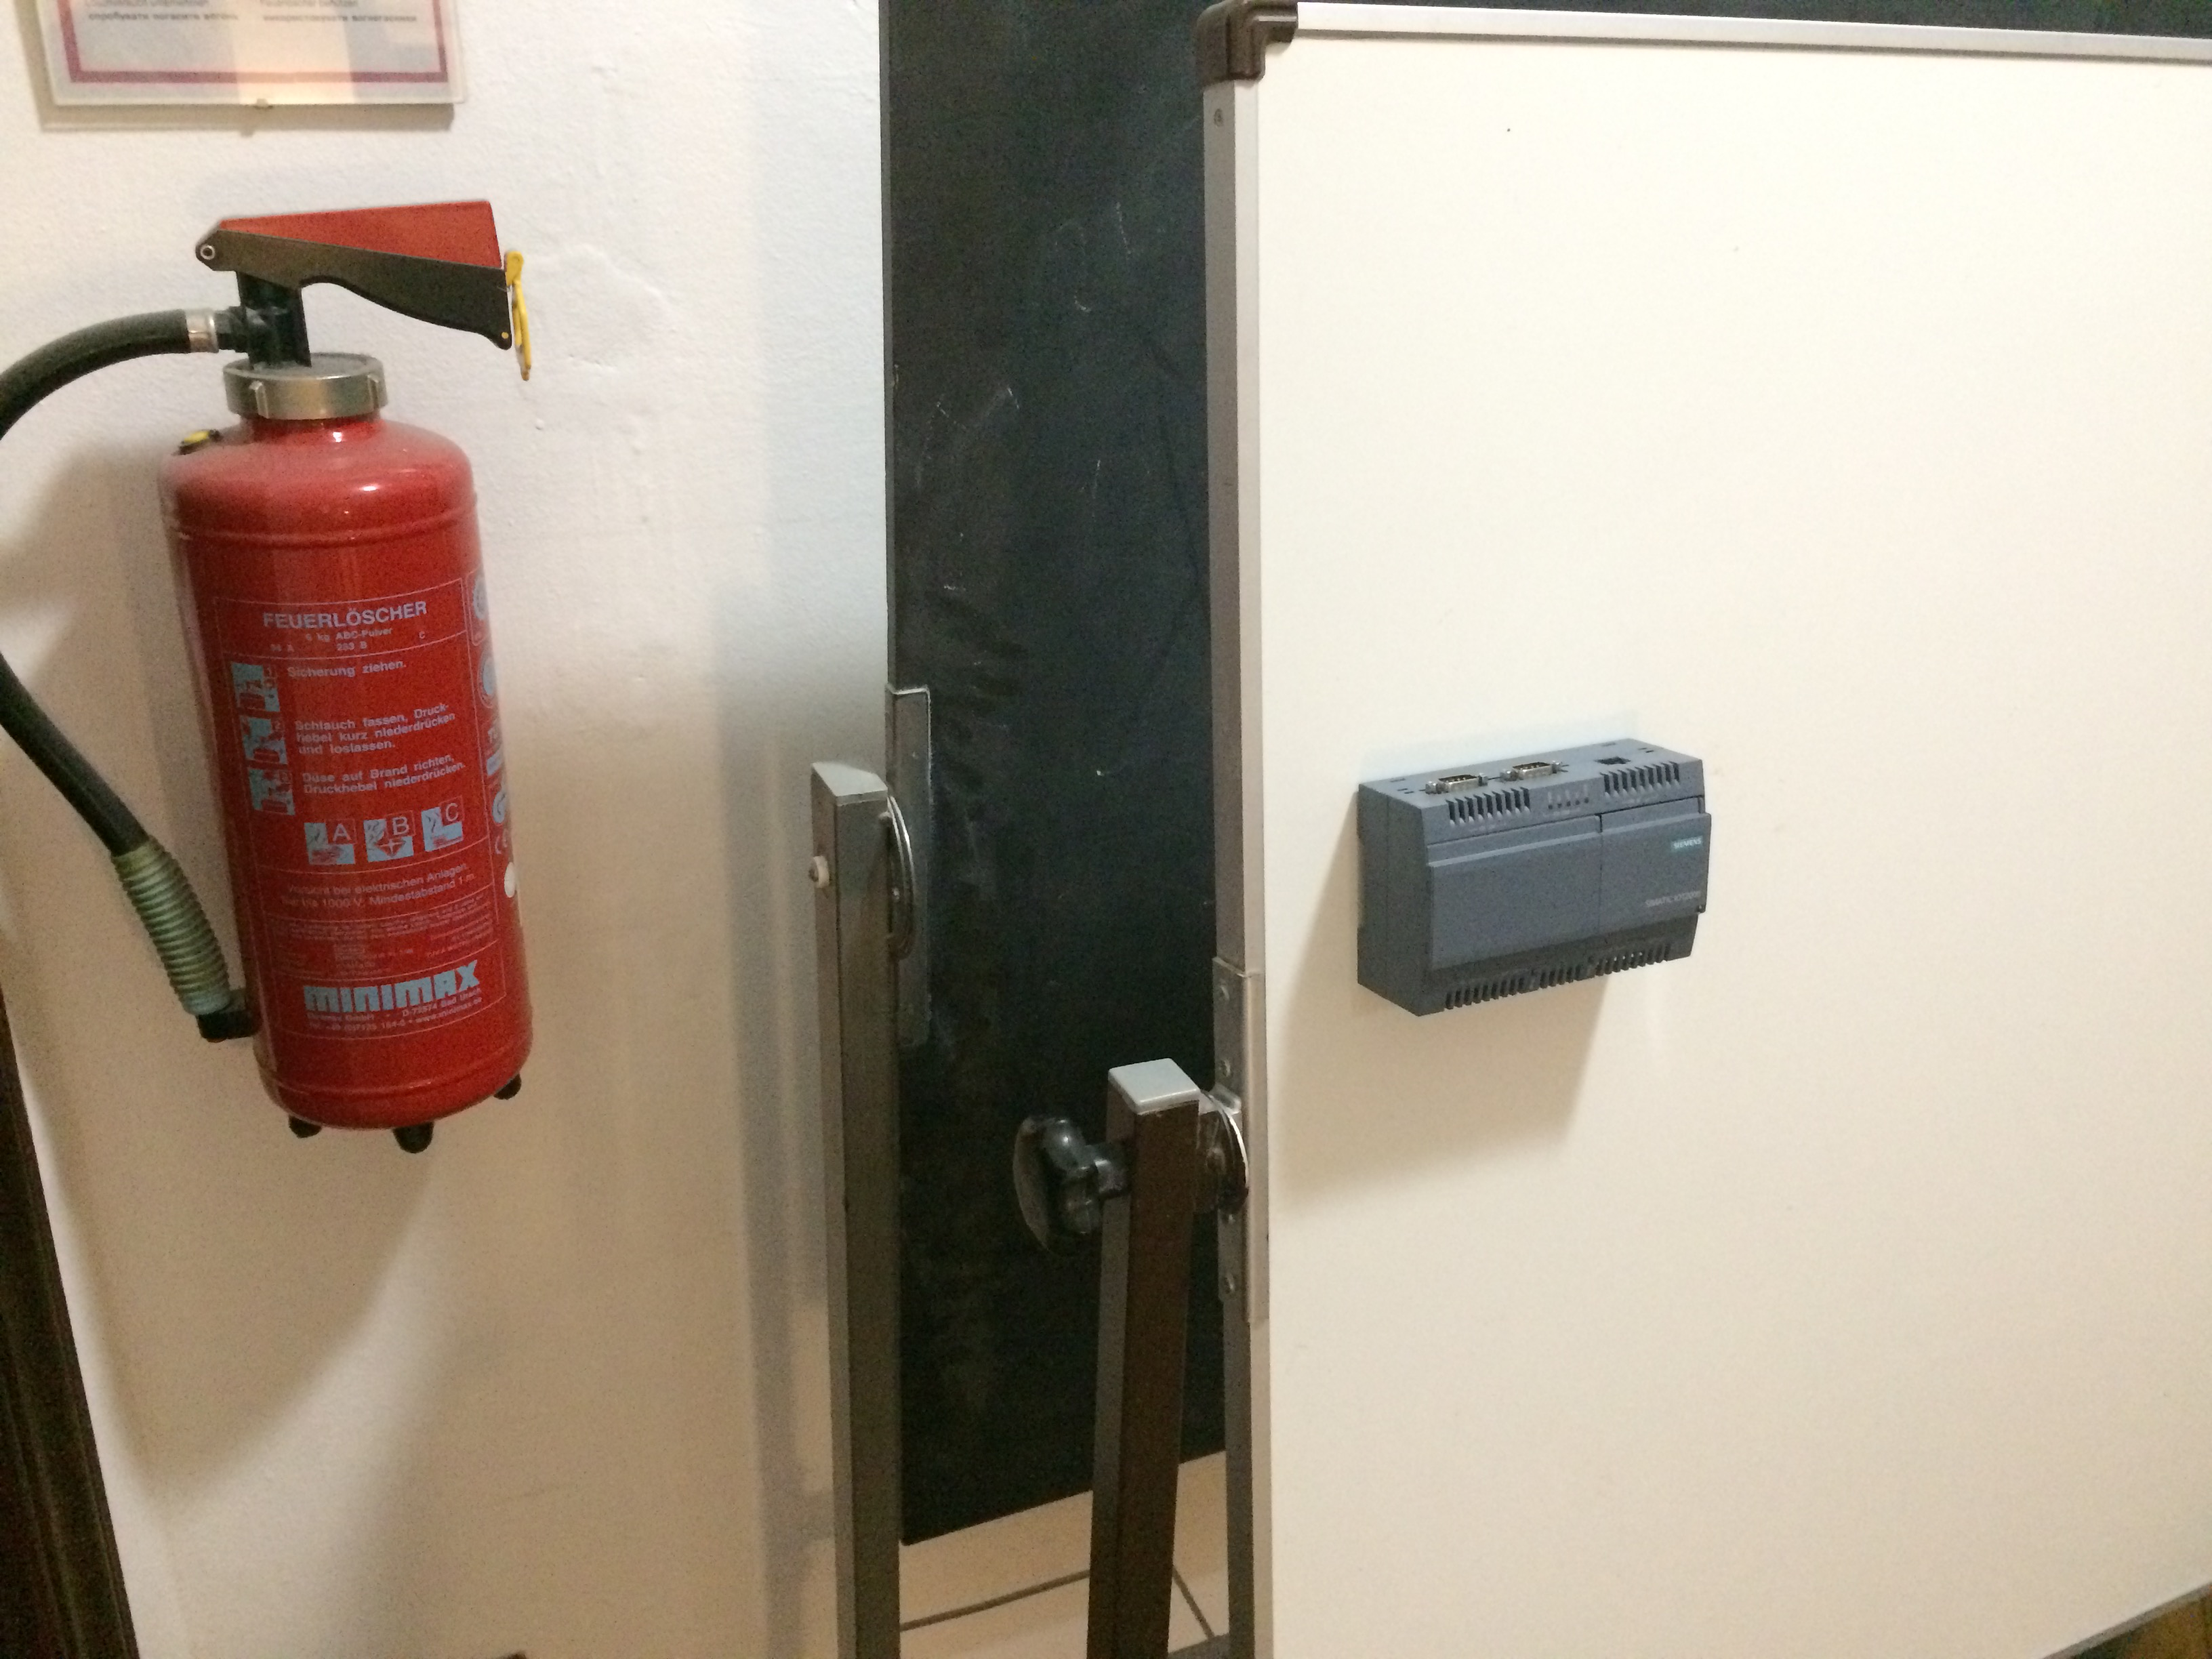iot2000: (1353, 735, 1716, 1021)
